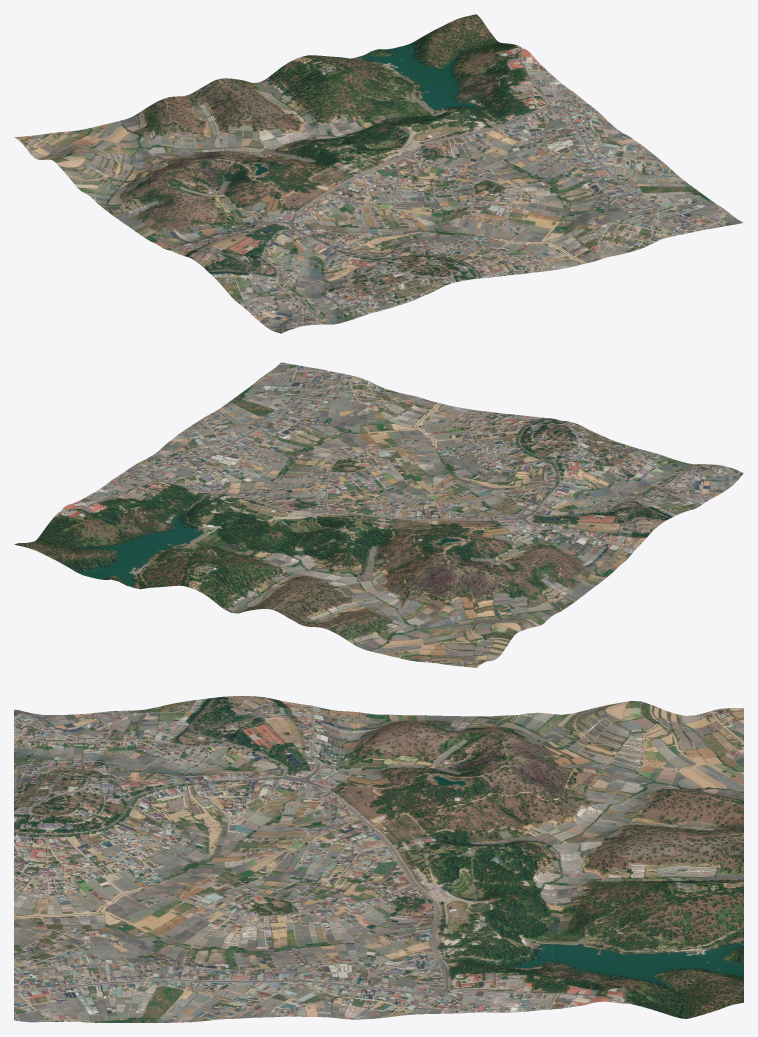
The model's file is terrain_real_T_E00_N02.glb.
The picture shows the model from 3 angles, top to bottom: view 1: azimuth 30°, elevation 25°; view 2: azimuth 150°, elevation 25°; view 3: azimuth 270°, elevation 25°; orthographic projection. The views are drawn at different scales.
Parts seen in each view (by area): view 1: TerrainReal_T_E00_N02; view 2: TerrainReal_T_E00_N02; view 3: TerrainReal_T_E00_N02.
Part boxes in pixels (x1=…): TerrainReal_T_E00_N02: x1=14, y1=14, x2=743, y2=333; TerrainReal_T_E00_N02: x1=14, y1=362, x2=743, y2=667; TerrainReal_T_E00_N02: x1=14, y1=696, x2=743, y2=1022.
Size of the model in its own units: 2000 by 97.87 by 2000.
Materials: 1 (1 with a texture image).
